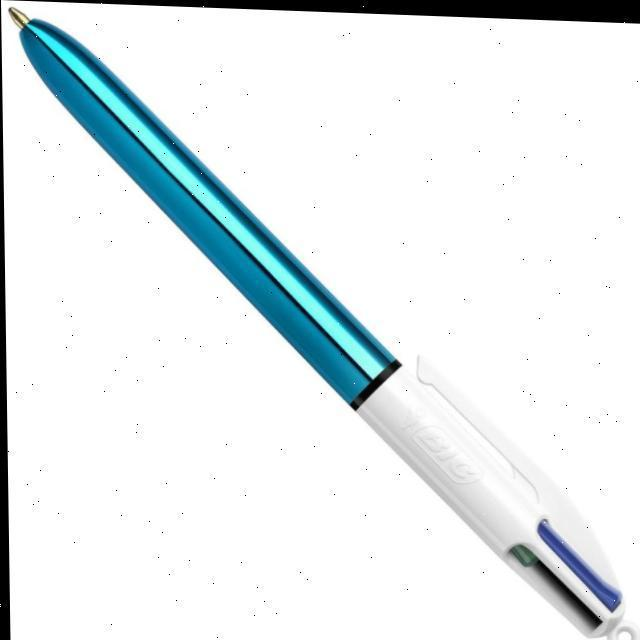Pen - Non Recyclable: (8, 6, 640, 640)
